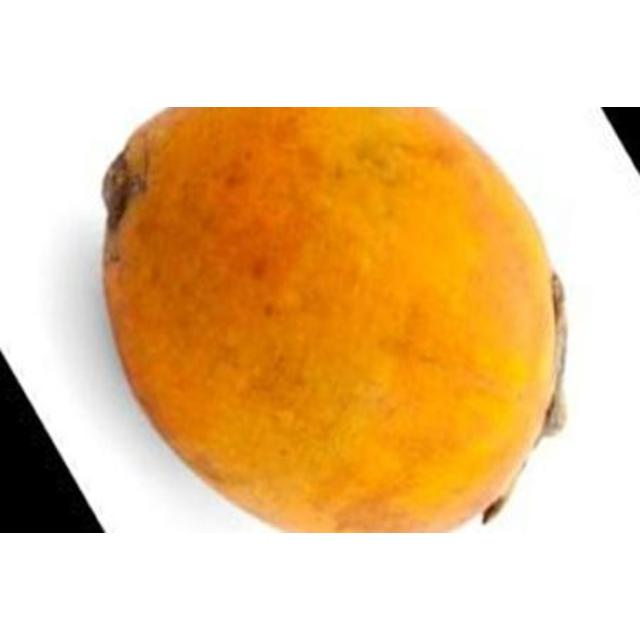good: (101, 107, 563, 532)
